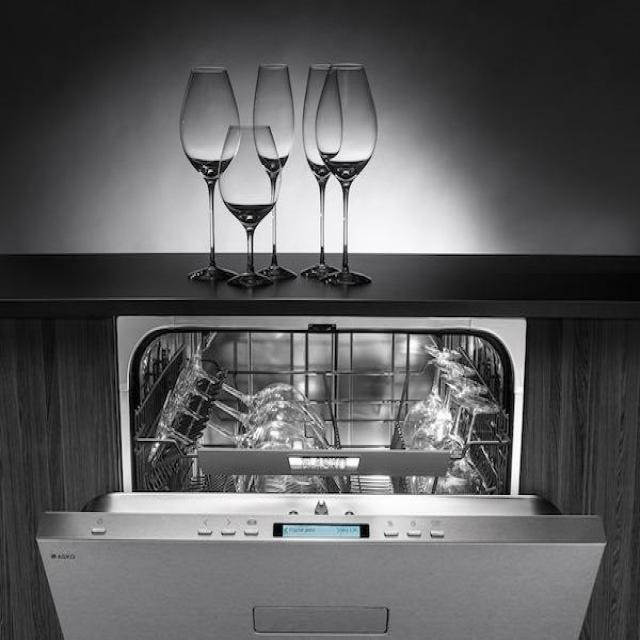dishwasher: (102, 257, 576, 640)
